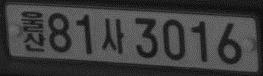0: (161, 18, 186, 61)
1: (189, 19, 209, 64), (73, 12, 93, 56)
3: (133, 16, 158, 58)
6: (217, 22, 242, 65)
8: (47, 11, 72, 53)
사: (100, 17, 126, 54)
울산_V: (19, 9, 47, 53)
